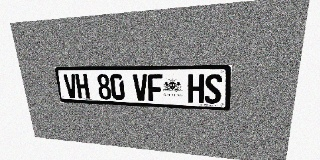0: (110, 74, 125, 100)
8: (96, 74, 112, 100)
F: (147, 74, 163, 102)
H: (188, 74, 204, 103), (75, 74, 90, 99)
S: (204, 74, 222, 104)
V: (133, 74, 148, 101), (63, 74, 78, 98)
